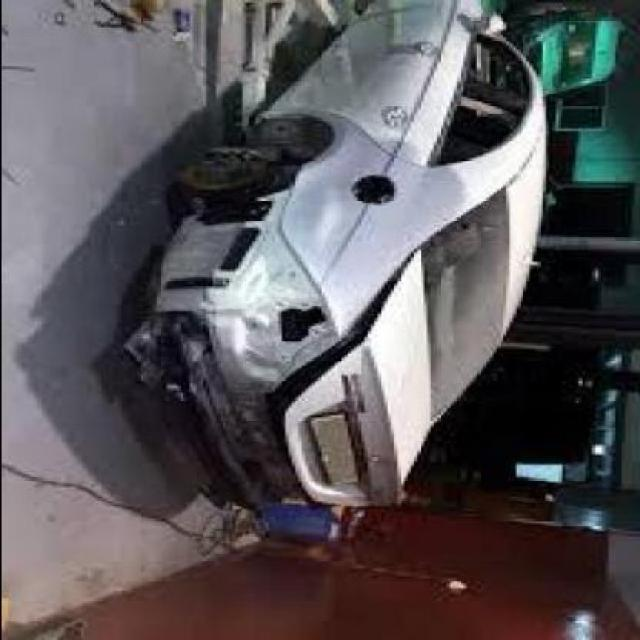damage: (128, 169, 342, 519)
